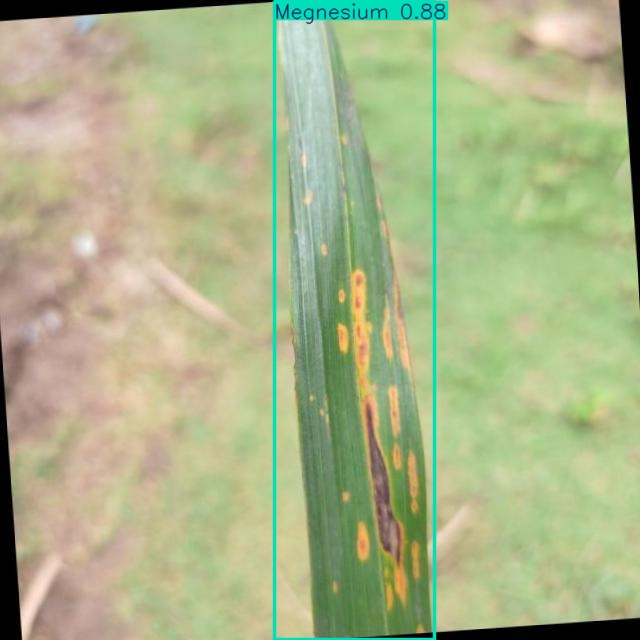Megnesium: (274, 1, 434, 640)
